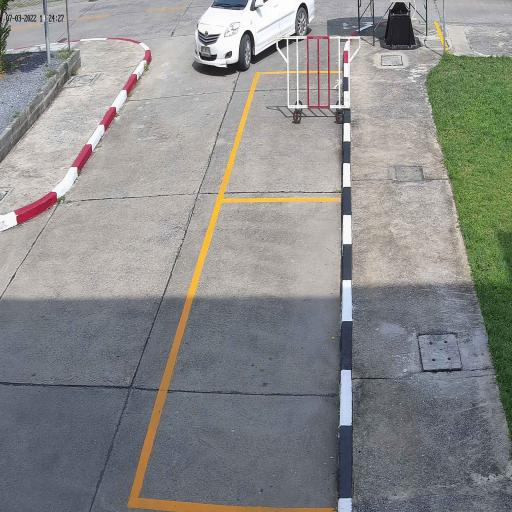car: (194, 0, 315, 71)
